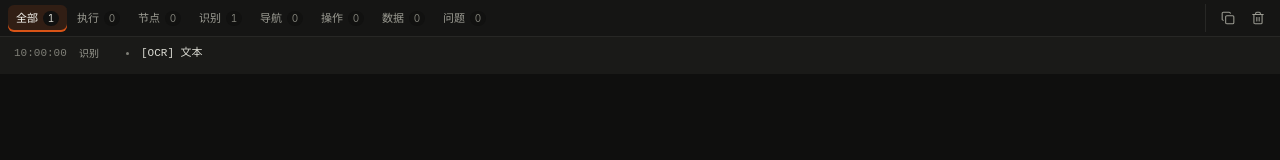
Test case: CanvasLogPanel 分类、跟随与日志操作 › 清空使用图标按钮并恢复到全部分类
This screenshot has width=1280, height=160.
Step 1. Click the button with class "log-filter-button" showing "识别 1" → (220, 18), box [191, 4, 250, 32]
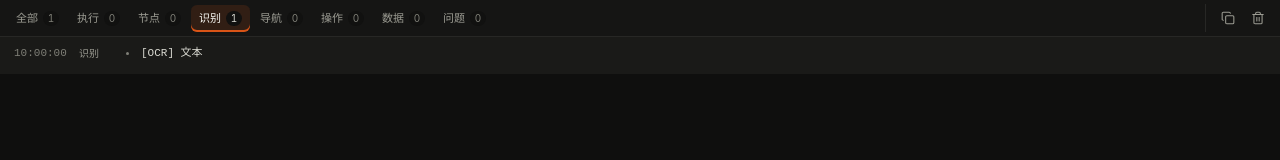
Step 2. Click the button named "清空全部日志" → (1258, 18), box [1244, 4, 1272, 32]
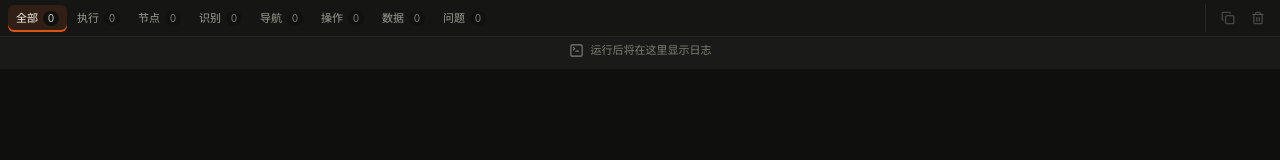
Expected: the button with class "log-filter-button" shows "全部", [8, 4, 67, 32]
Expected: the text "运行后将在这里显示日志" is shown, [590, 42, 712, 58]
